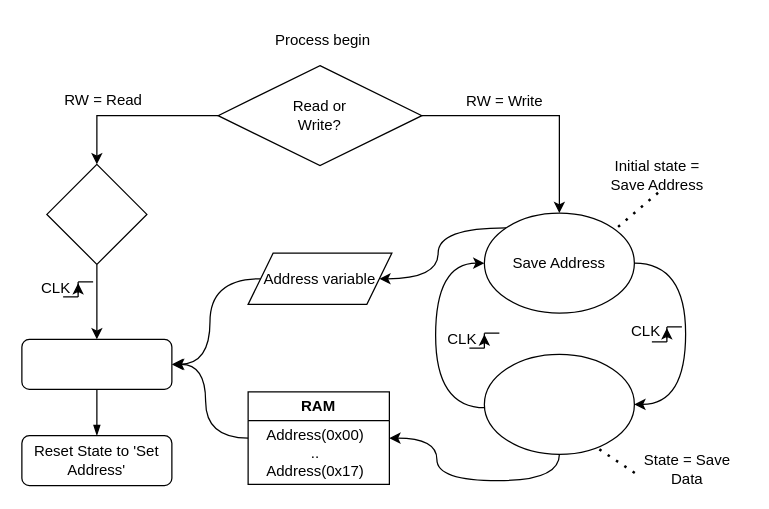
Image size: 769x509. Some labels were removed from this diagram. Here are the shapes that lost their labels. From the top down, the centre of each, then its label:
At point (96, 213): "CLK?".
At point (96, 363): "Send RAM data at Address to Port".
At point (558, 403): "Save Data To RAM at Address".
